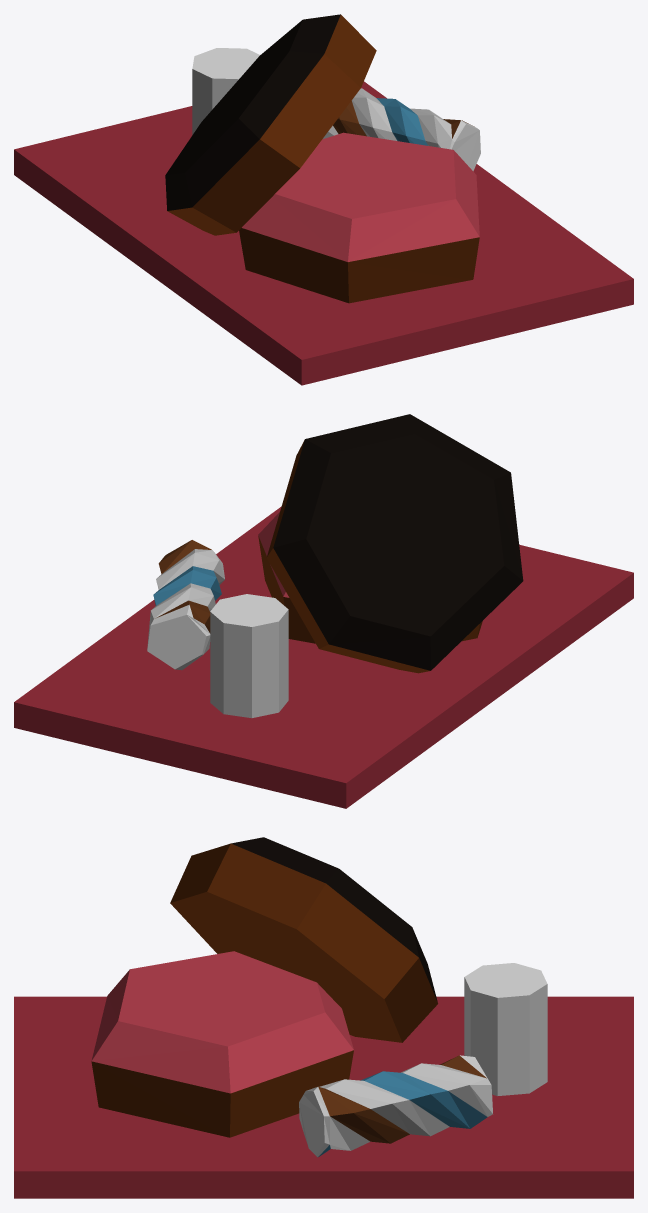
The model's file is W_O_Playground_CandySymbolic_002_L3.fbx.
3 renders of one model, top to bottom at view 1: azimuth 30°, elevation 25°; view 2: azimuth 150°, elevation 25°; view 3: azimuth 270°, elevation 25°, orthographic. The views are drawn at different scales.
Parts seen in each view (by area): view 1: W_O_Playground_CandySymbolic_002_L3; view 2: W_O_Playground_CandySymbolic_002_L3; view 3: W_O_Playground_CandySymbolic_002_L3.
Boxes of the visible parts, x1,y1,x2,y2 form: W_O_Playground_CandySymbolic_002_L3: (14,14,633,385); W_O_Playground_CandySymbolic_002_L3: (14,414,633,808); W_O_Playground_CandySymbolic_002_L3: (14,837,633,1198).
Size of the model in its own units: 2 by 1.31 by 3.
